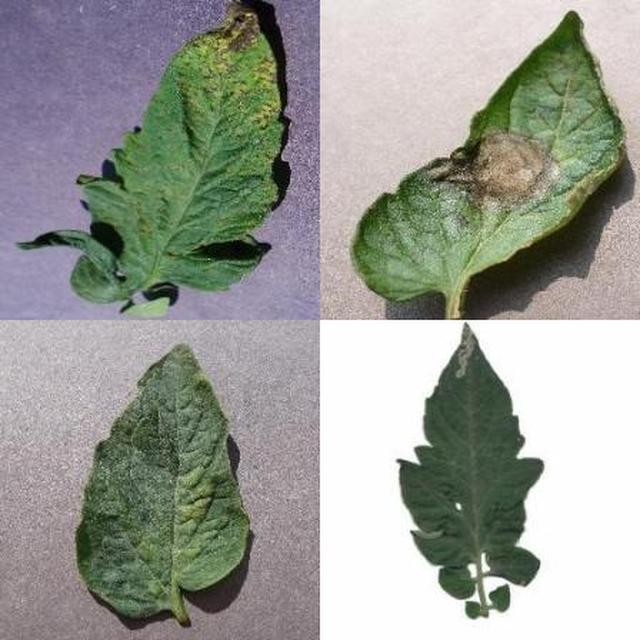Septoria Leaf: (217, 208, 640, 640)
